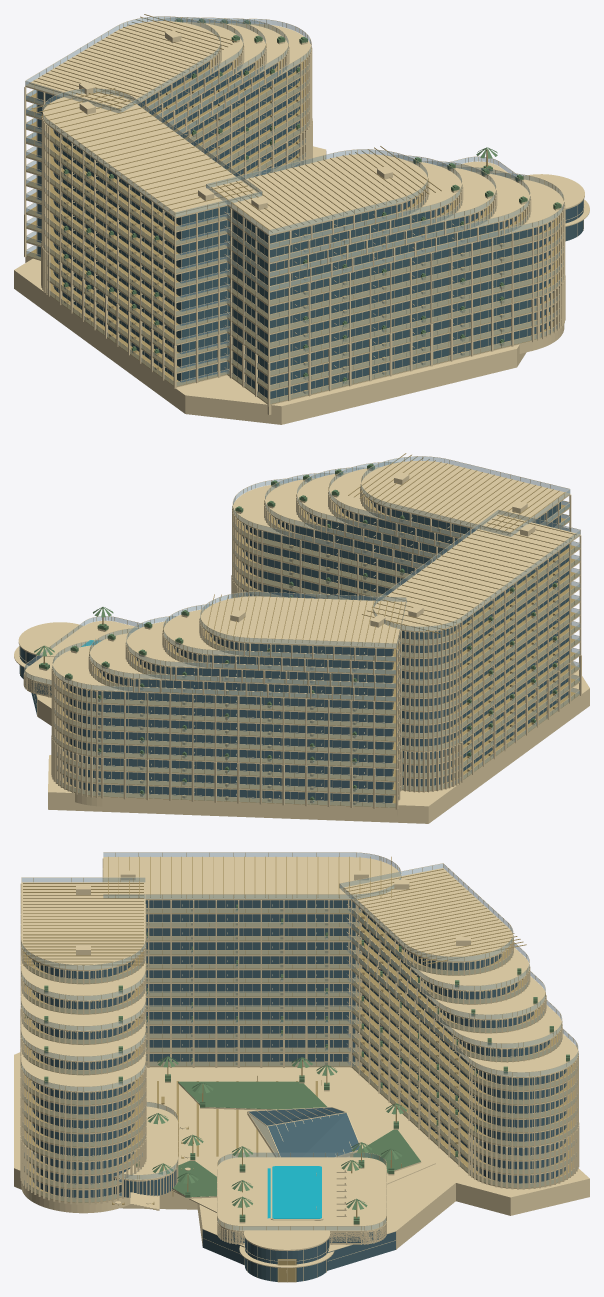
Rendered from shoreline.glb.
3 renders of one model, top to bottom at view 1: azimuth 30°, elevation 25°; view 2: azimuth 150°, elevation 25°; view 3: azimuth 270°, elevation 25°, orthographic. The views are drawn at different scales.
Visible parts, largest first — view 1: Suedfluegel - Rundterrassen, Westfluegel - Verbindung, Nordfluegel - Rundterrassen, Mall-Sockel und Innenhof, Mall-Pavillon und Eingang, Pool und Sonnendeck; view 2: Nordfluegel - Rundterrassen, Westfluegel - Verbindung, Suedfluegel - Rundterrassen, Mall-Sockel und Innenhof, Pool und Sonnendeck, Mall-Pavillon und Eingang; view 3: Nordfluegel - Rundterrassen, Westfluegel - Verbindung, Suedfluegel - Rundterrassen, Mall-Sockel und Innenhof, Pool und Sonnendeck, Mall-Pavillon und Eingang, Geneigtes Glasdach.
Boxes of the visible parts, x1,y1,x2,y2 form: Suedfluegel - Rundterrassen: (206, 146, 565, 414); Westfluegel - Verbindung: (30, 88, 262, 388); Nordfluegel - Rundterrassen: (24, 14, 312, 262); Mall-Sockel und Innenhof: (14, 146, 526, 424); Mall-Pavillon und Eingang: (523, 174, 589, 241); Pool und Sonnendeck: (441, 147, 516, 178); Nordfluegel - Rundterrassen: (51, 591, 406, 817); Westfluegel - Verbindung: (362, 509, 581, 792); Suedfluegel - Rundterrassen: (231, 453, 571, 651); Mall-Sockel und Innenhof: (29, 661, 589, 823); Pool und Sonnendeck: (23, 607, 143, 697); Mall-Pavillon und Eingang: (14, 598, 231, 678); Nordfluegel - Rundterrassen: (339, 863, 579, 1189); Westfluegel - Verbindung: (102, 852, 401, 1067); Suedfluegel - Rundterrassen: (20, 877, 146, 1213); Mall-Sockel und Innenhof: (14, 1052, 589, 1270); Pool und Sonnendeck: (217, 1142, 386, 1244); Mall-Pavillon und Eingang: (112, 1101, 334, 1282); Geneigtes Glasdach: (247, 1107, 359, 1157).
Bounding box in the file's own units: 115 × 42.7 × 116.
